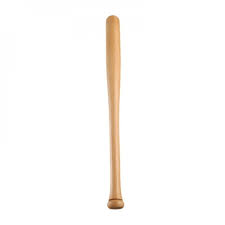baseball bat: (103, 16, 125, 210)
